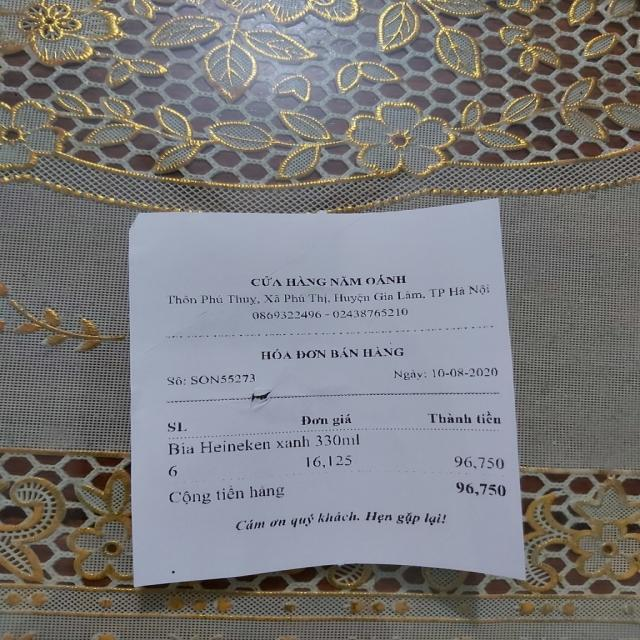Date: (430, 364, 501, 380)
Store_Name: (244, 272, 414, 288)
amount_number: (453, 479, 509, 498)
label_total: (165, 484, 293, 504)
